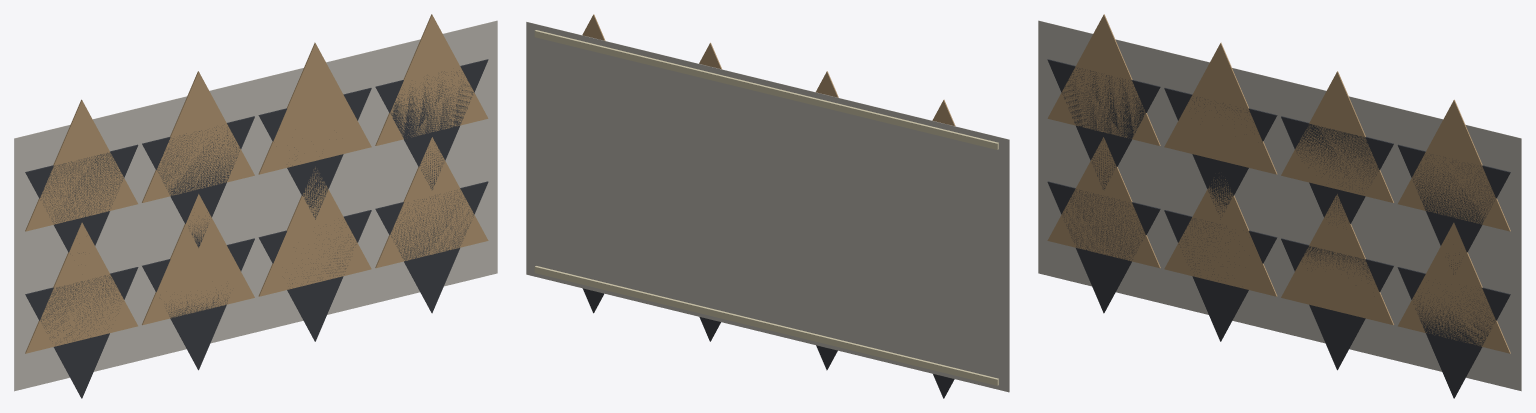
The model's file is tess_lumen_flat.obj.
3 renders of one model, left to right at view 1: azimuth 30°, elevation 25°; view 2: azimuth 150°, elevation 25°; view 3: azimuth 330°, elevation 25°, orthographic.
Parts seen in each view (by area): view 1: geometry_0, geometry_13, geometry_9, geometry_1, geometry_7, geometry_3, geometry_11, geometry_5, geometry_15, geometry_16, geometry_12, geometry_8 (+5 smaller); view 2: geometry_0, geometry_17, geometry_18; view 3: geometry_0, geometry_11, geometry_1, geometry_15, geometry_5, geometry_13, geometry_9, geometry_7, geometry_3, geometry_10, geometry_8, geometry_2 (+5 smaller).
Boxes of the visible parts, x1=… form: geometry_0: x1=14, y1=20, x2=497, y2=391; geometry_13: x1=258, y1=42, x2=371, y2=174; geometry_9: x1=25, y1=99, x2=137, y2=231; geometry_1: x1=25, y1=222, x2=137, y2=353; geometry_7: x1=375, y1=137, x2=488, y2=268; geometry_3: x1=142, y1=194, x2=254, y2=325; geometry_11: x1=142, y1=71, x2=254, y2=202; geometry_5: x1=258, y1=167, x2=371, y2=296; geometry_15: x1=375, y1=14, x2=488, y2=145; geometry_16: x1=375, y1=59, x2=488, y2=189; geometry_12: x1=142, y1=116, x2=254, y2=247; geometry_8: x1=375, y1=181, x2=488, y2=313; geometry_0: x1=526, y1=21, x2=1009, y2=392; geometry_17: x1=534, y1=30, x2=998, y2=149; geometry_18: x1=534, y1=266, x2=998, y2=385; geometry_0: x1=1038, y1=20, x2=1521, y2=391; geometry_11: x1=1164, y1=42, x2=1277, y2=174; geometry_1: x1=1047, y1=137, x2=1160, y2=268; geometry_15: x1=1398, y1=99, x2=1510, y2=231; geometry_5: x1=1281, y1=194, x2=1393, y2=325; geometry_13: x1=1281, y1=71, x2=1393, y2=202; geometry_9: x1=1047, y1=14, x2=1160, y2=145; geometry_7: x1=1398, y1=222, x2=1510, y2=353; geometry_3: x1=1164, y1=177, x2=1277, y2=296; geometry_10: x1=1047, y1=59, x2=1160, y2=189; geometry_8: x1=1397, y1=267, x2=1510, y2=398; geometry_2: x1=1047, y1=181, x2=1160, y2=313.
Size of the model in its own units: 1.2 by 0.71 by 0.013.
